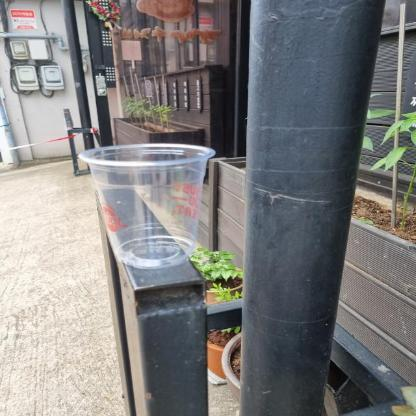Plastic Cup: (79, 141, 217, 269)
